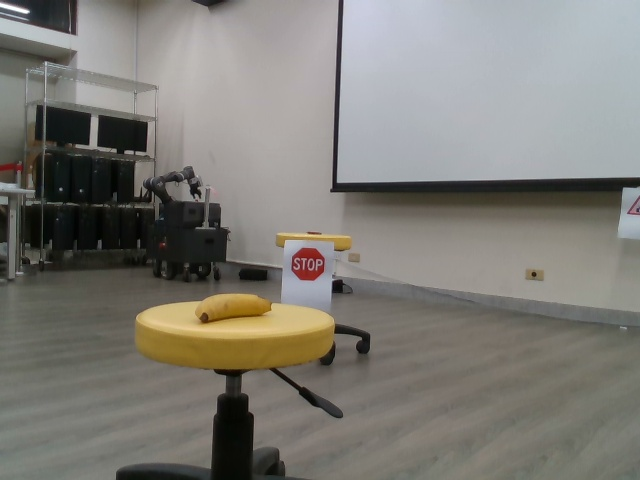banana: (189, 288, 277, 327)
stop: (289, 243, 328, 286)
